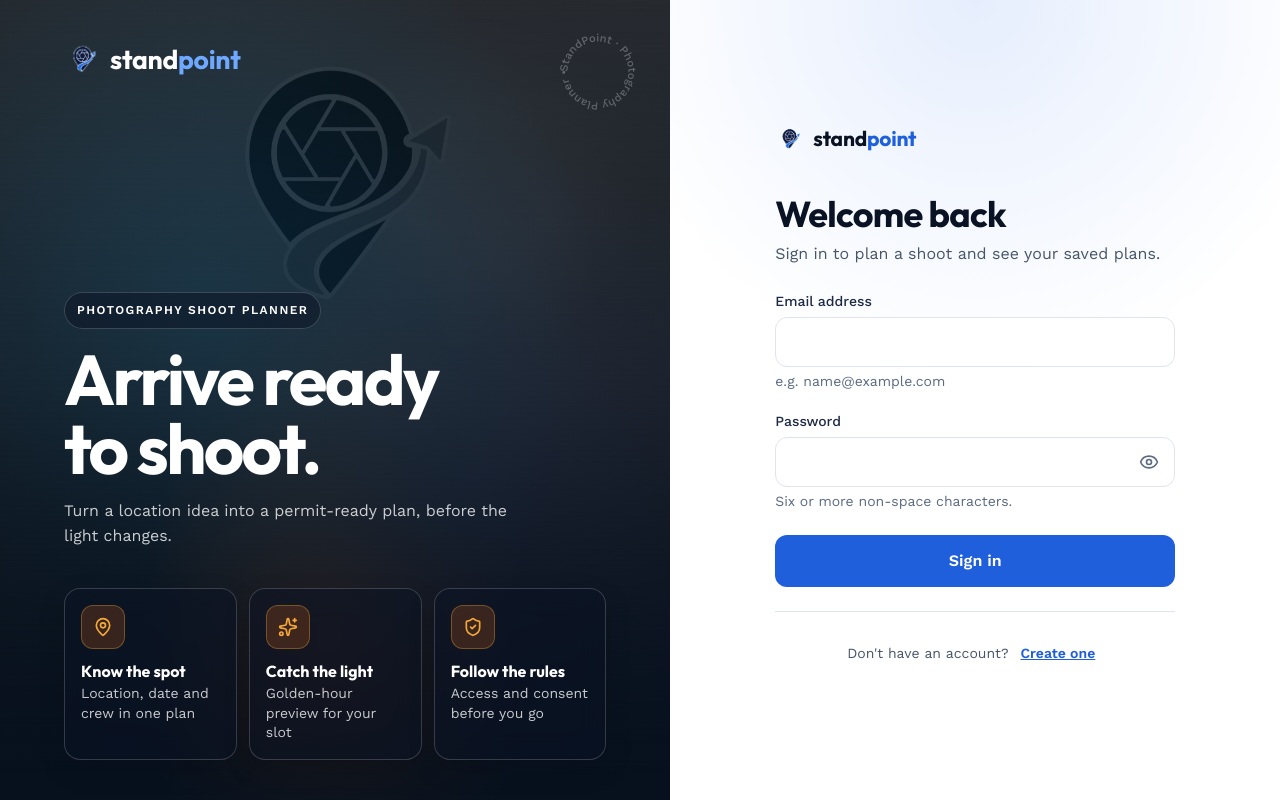
Test: LoginScreen › shows email error after blur with empty value
The width and height of the screenshot is (1280, 800).
Click the field labelled "Email address" at [975, 342], box [775,317,1175,367]
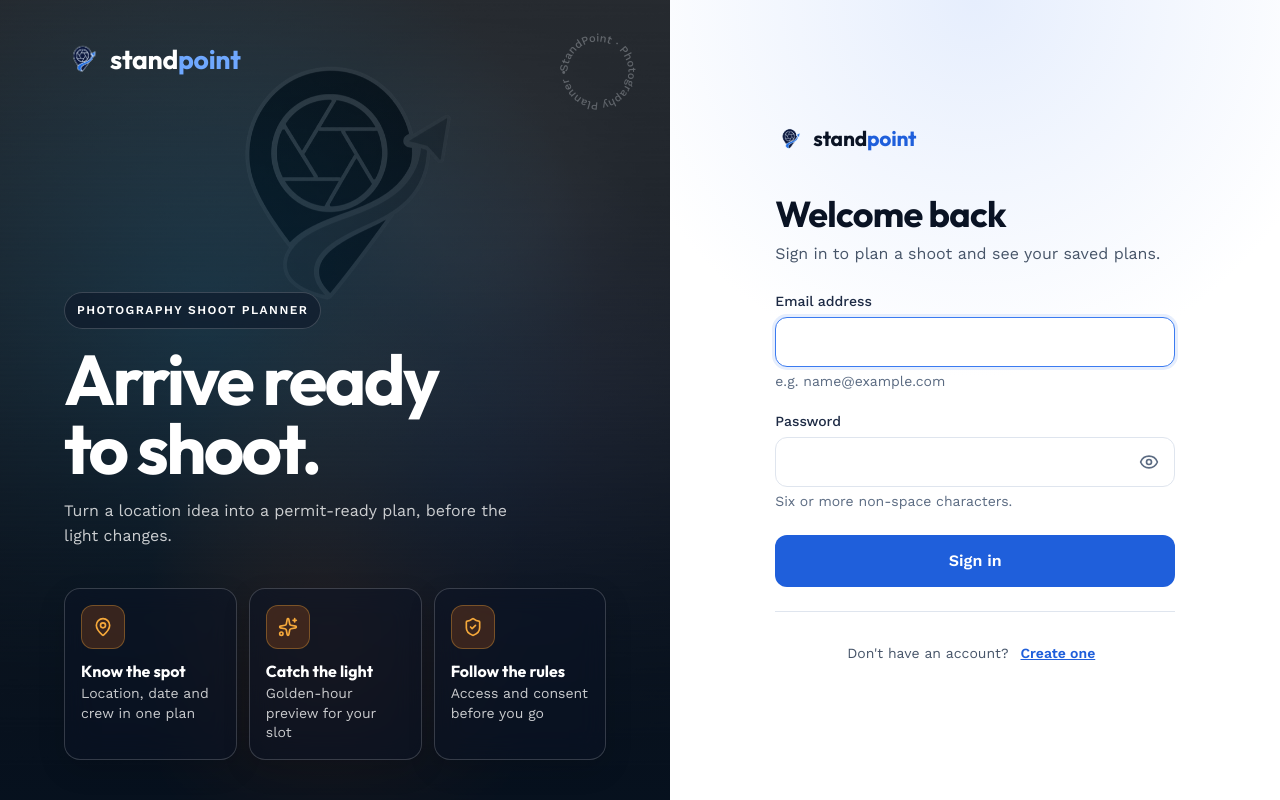
Press Tab
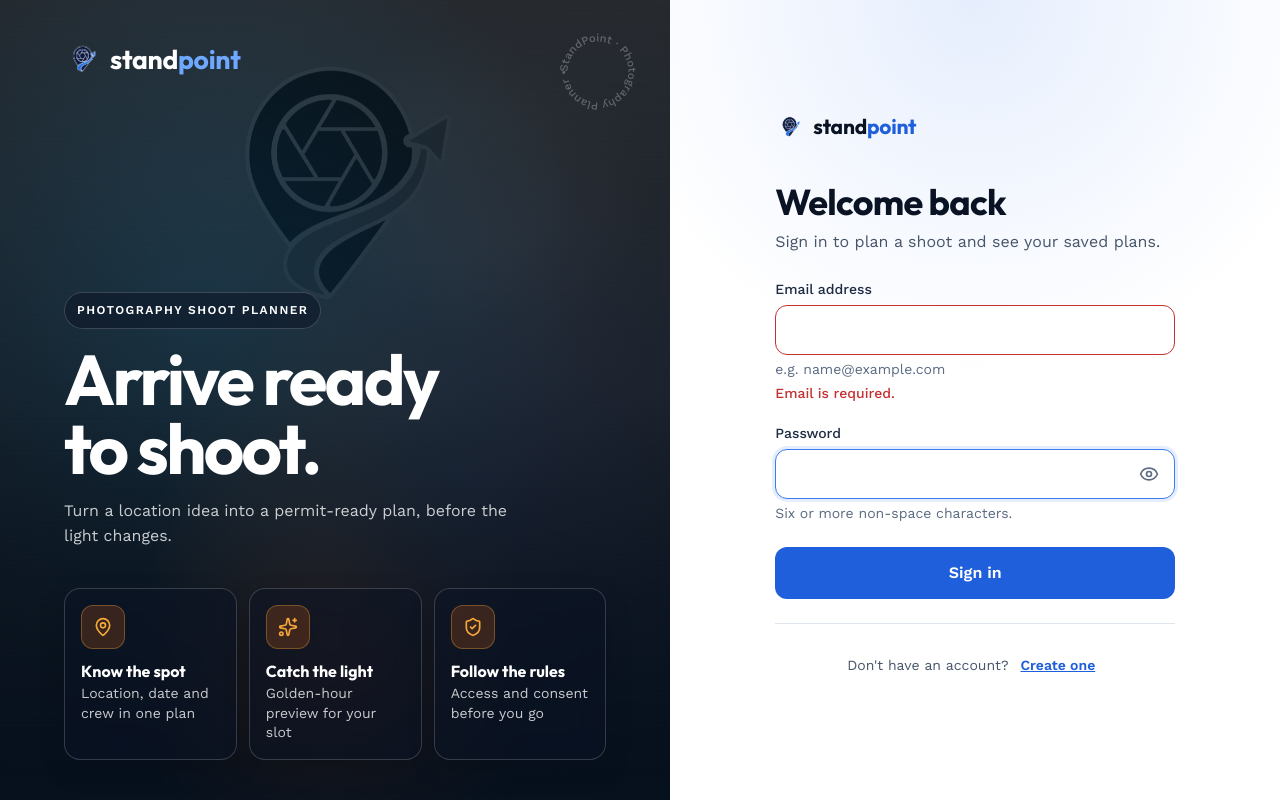
Check: the message shows "Email is required", box [775,385,895,401]
